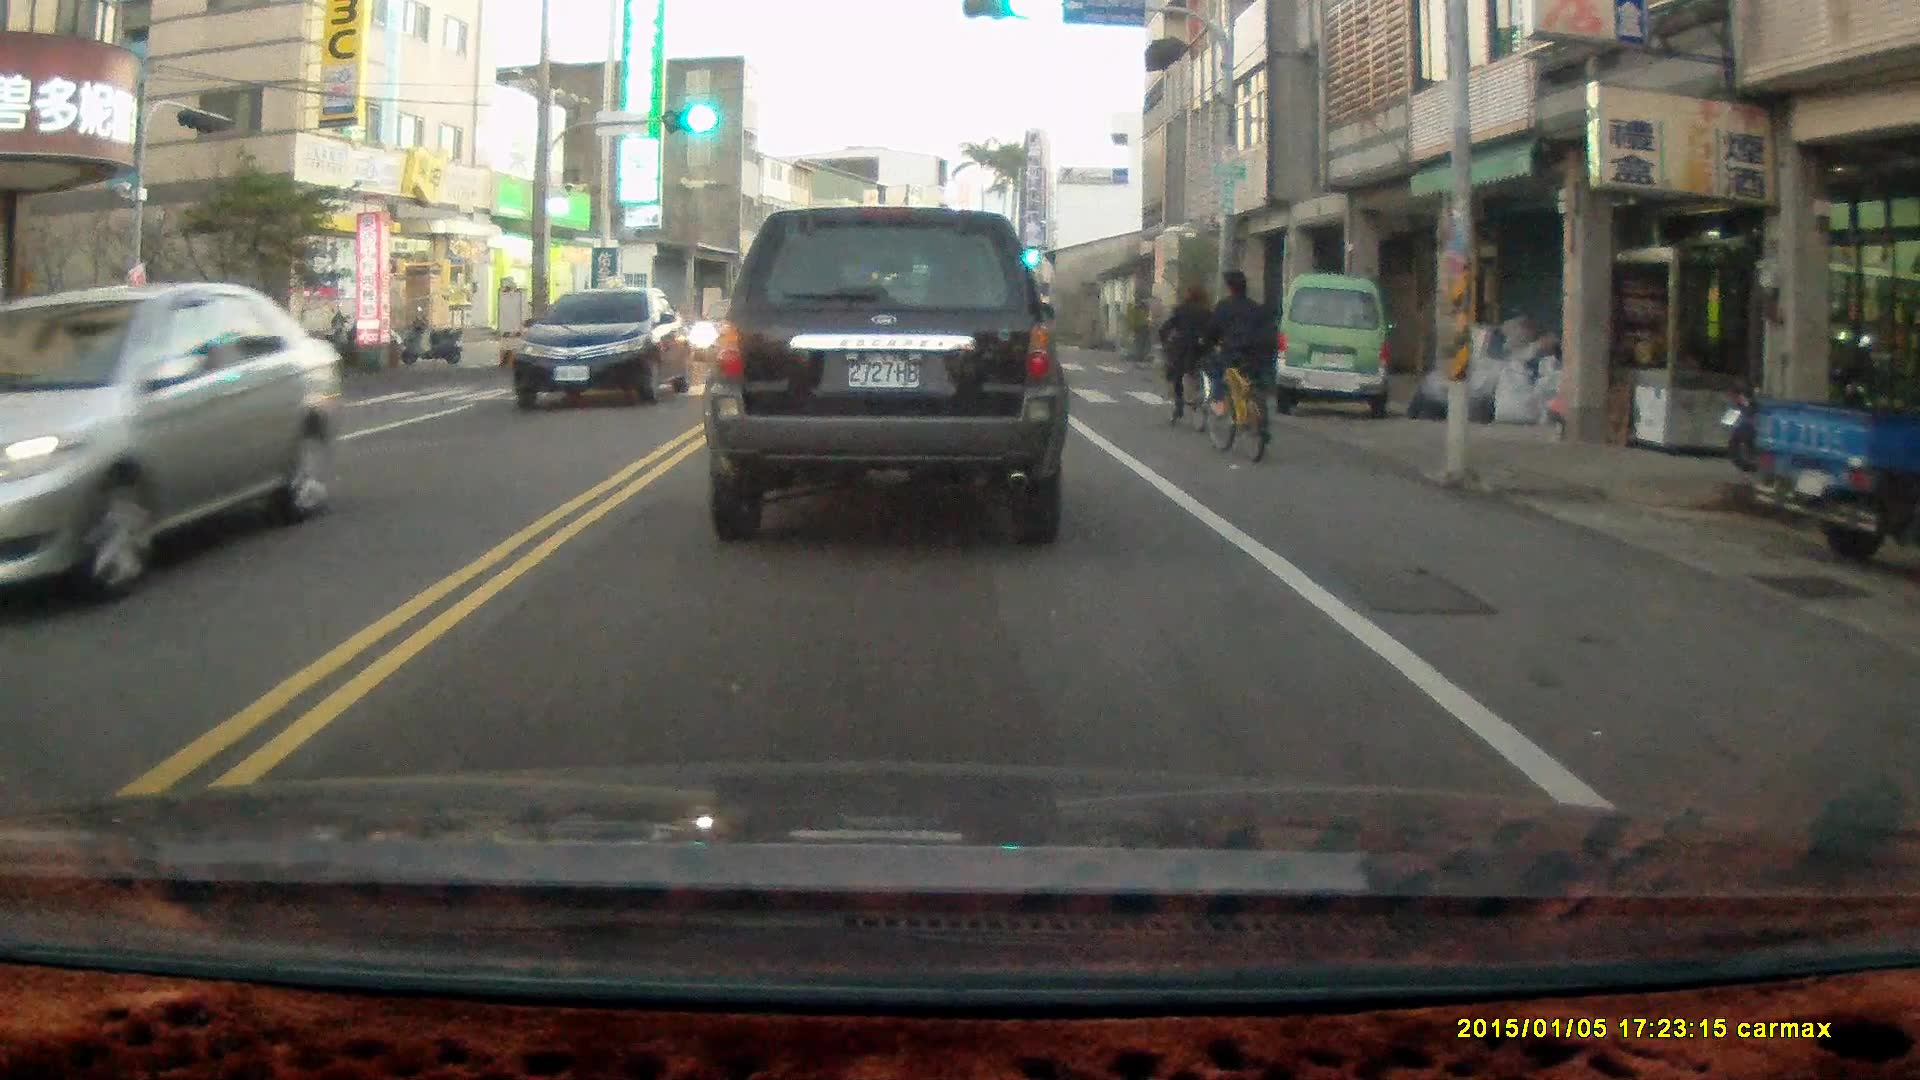rider: (1197, 267, 1272, 462), (1154, 275, 1221, 437)
vehicle: (711, 205, 1070, 540), (1, 281, 348, 615), (513, 284, 695, 414), (1275, 273, 1393, 425)
